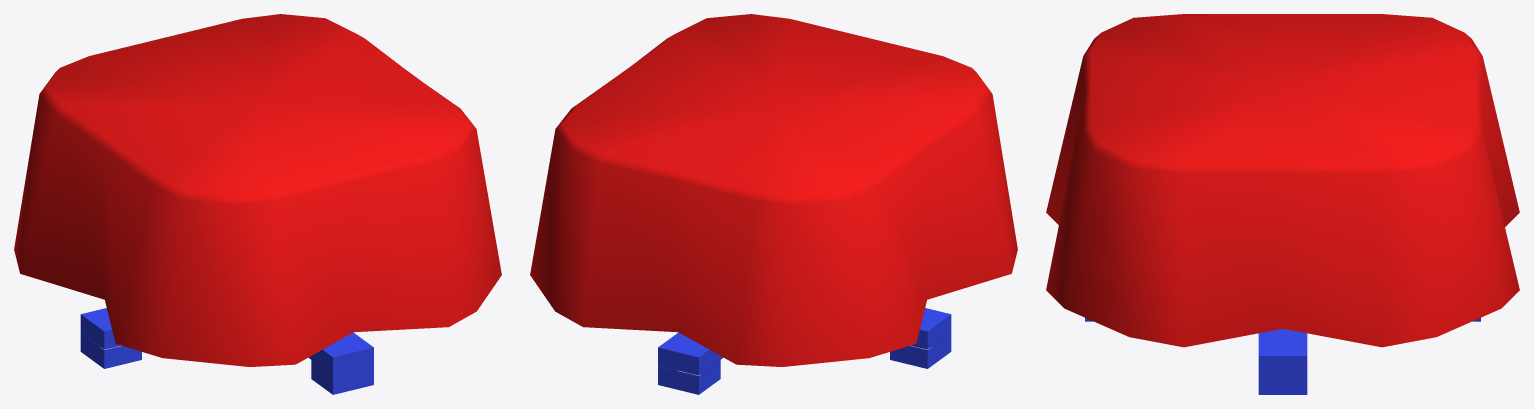
Rendered from ban Vip.FBX.
The picture shows the model from 3 angles, left to right: view 1: azimuth 30°, elevation 25°; view 2: azimuth 150°, elevation 25°; view 3: azimuth 270°, elevation 25°; orthographic projection. The views are drawn at different scales.
Parts seen in each view (by area): view 1: Box1132; view 2: Box1132; view 3: Box1132.
Boxes of the visible parts, <box> form: Box1132: <box>14,14,501,394</box>; Box1132: <box>530,14,1017,394</box>; Box1132: <box>1046,14,1519,394</box>.
Bounding box in the file's own units: 2.73 × 1.48 × 2.84.
